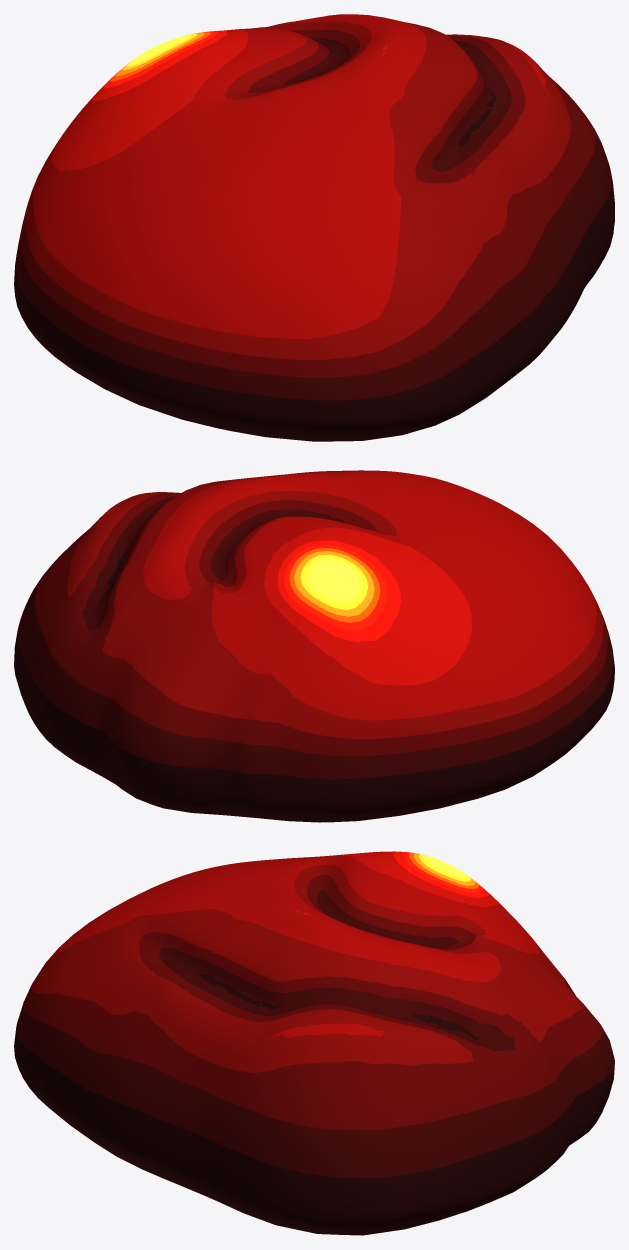
The model's file is blob_big.glb.
The picture shows the model from 3 angles, top to bottom: view 1: azimuth 30°, elevation 25°; view 2: azimuth 150°, elevation 25°; view 3: azimuth 270°, elevation 25°; orthographic projection. The views are drawn at different scales.
Visible parts, largest first — view 1: blob_big; view 2: blob_big; view 3: blob_big.
Part boxes in pixels (x1=…): blob_big: x1=14, y1=14, x2=614, y2=441; blob_big: x1=14, y1=470, x2=614, y2=822; blob_big: x1=14, y1=851, x2=614, y2=1235.
Bounding box in the file's own units: 21.88 × 10.93 × 21.85.
